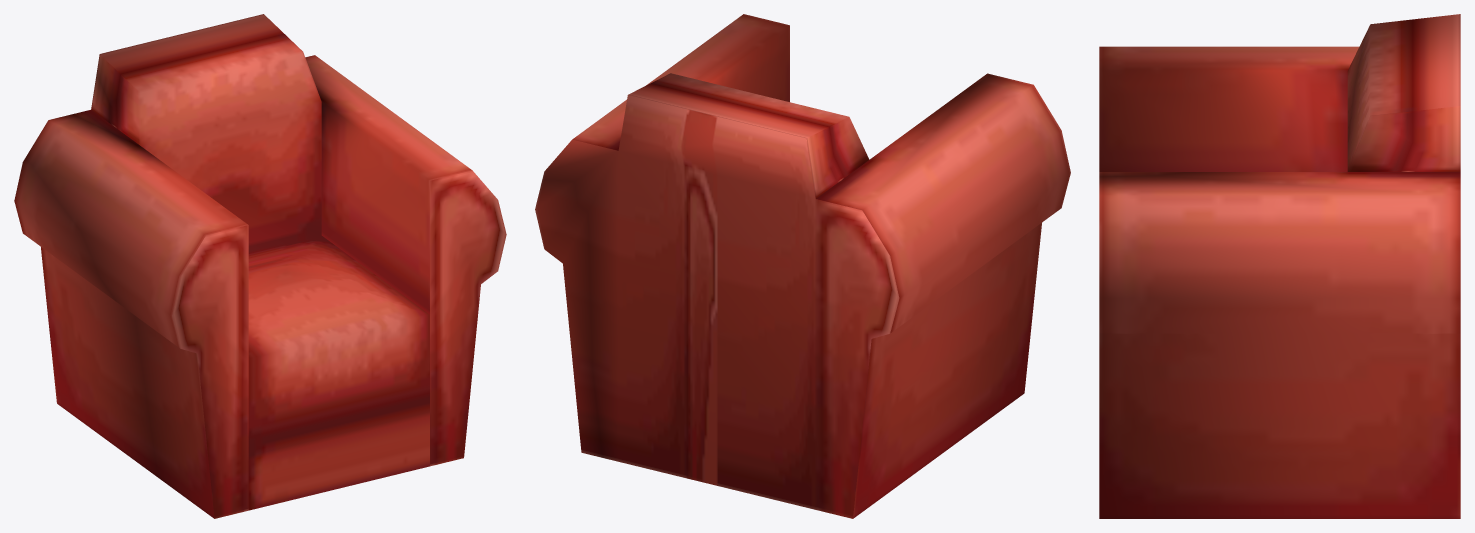
File: rmk_red_chairS.dae
3 views of the same model, side by side, from view 1: azimuth 30°, elevation 25°; view 2: azimuth 150°, elevation 25°; view 3: azimuth 270°, elevation 25° (orthographic). The views are drawn at different scales.
Parts seen in each view (by area): view 1: rmk_red_chairS; view 2: rmk_red_chairS; view 3: rmk_red_chairS.
Boxes of the visible parts, left/top/right/bottom form: rmk_red_chairS: left=14, top=14, right=506, bottom=518; rmk_red_chairS: left=535, top=14, right=1070, bottom=518; rmk_red_chairS: left=1099, top=14, right=1460, bottom=518.
Bounding box in the file's own units: 31.4 × 30.4 × 25.6.
Materials: 1 (1 with a texture image).
